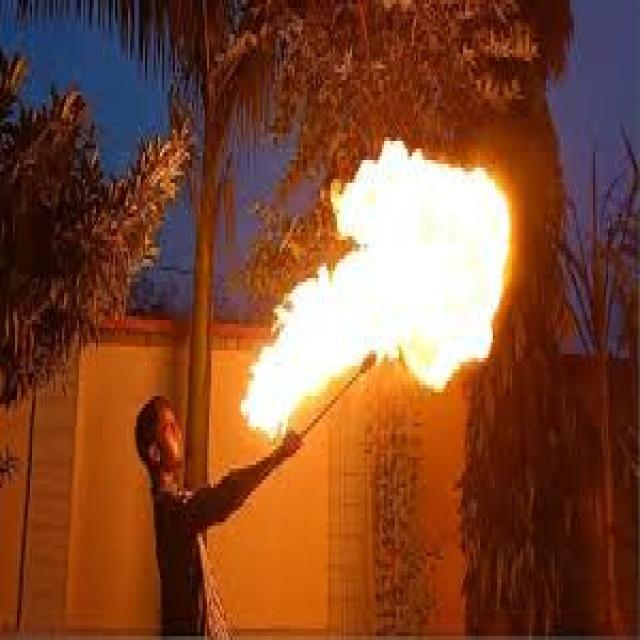fire: (331, 138, 512, 394), (241, 265, 330, 444)
